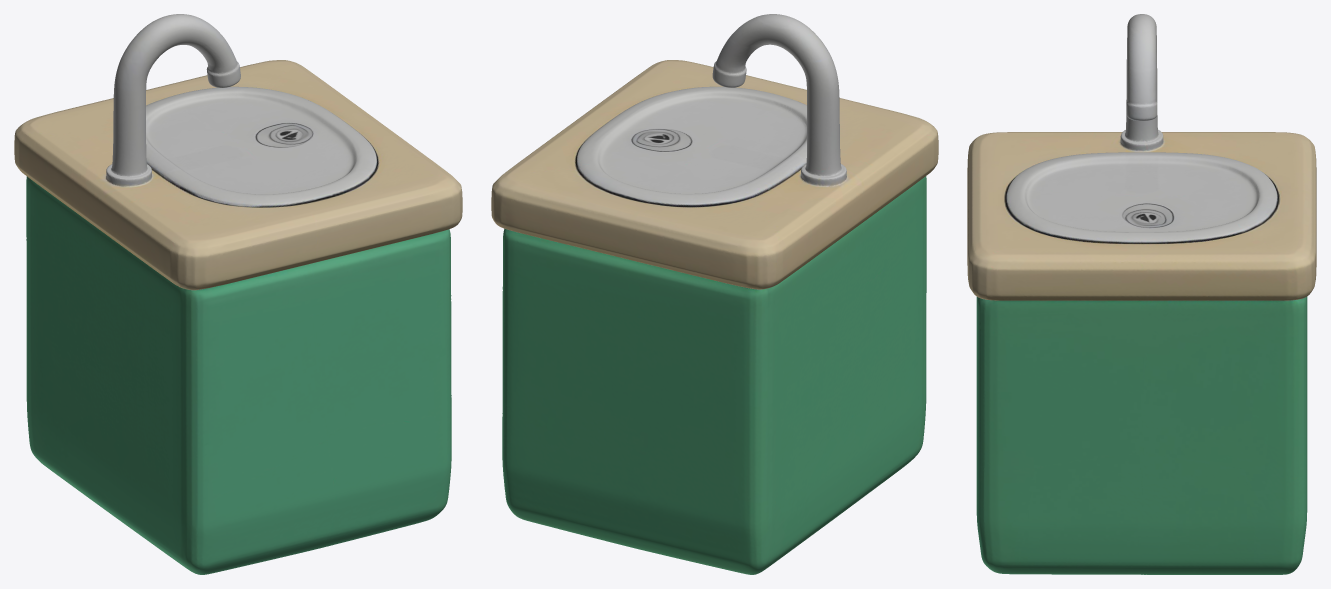
Rendered from Mod_Sink.glb.
The picture shows the model from 3 angles, left to right: view 1: azimuth 30°, elevation 25°; view 2: azimuth 150°, elevation 25°; view 3: azimuth 270°, elevation 25°; orthographic projection. The views are drawn at different scales.
Visible parts, largest first — view 1: tripo_node_eb4ab9b7-f57a-46be-9477-8c41795eaac4; view 2: tripo_node_eb4ab9b7-f57a-46be-9477-8c41795eaac4; view 3: tripo_node_eb4ab9b7-f57a-46be-9477-8c41795eaac4.
Part boxes in pixels (left/top/right/bottom): tripo_node_eb4ab9b7-f57a-46be-9477-8c41795eaac4: left=14, top=14, right=462, bottom=574; tripo_node_eb4ab9b7-f57a-46be-9477-8c41795eaac4: left=491, top=14, right=938, bottom=574; tripo_node_eb4ab9b7-f57a-46be-9477-8c41795eaac4: left=967, top=14, right=1316, bottom=574.
Size of the model in its own units: 0.6099 by 1 by 0.6702.
Materials: 1 (1 with a texture image).
